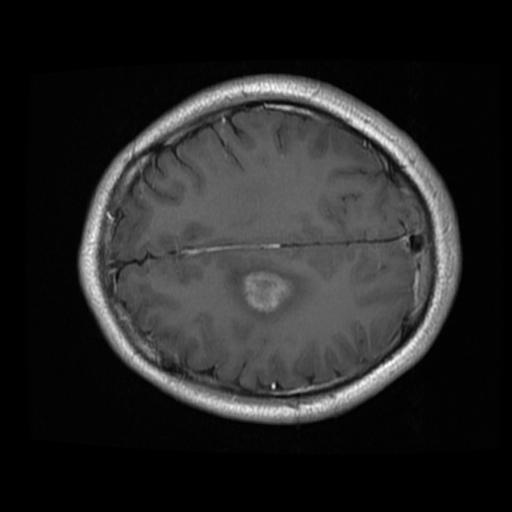glioma: (225, 263, 306, 321)
